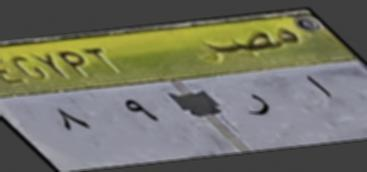8: (53, 103, 91, 140)
9: (124, 93, 158, 128)
alif: (302, 66, 337, 110)
raa: (240, 88, 278, 123)
